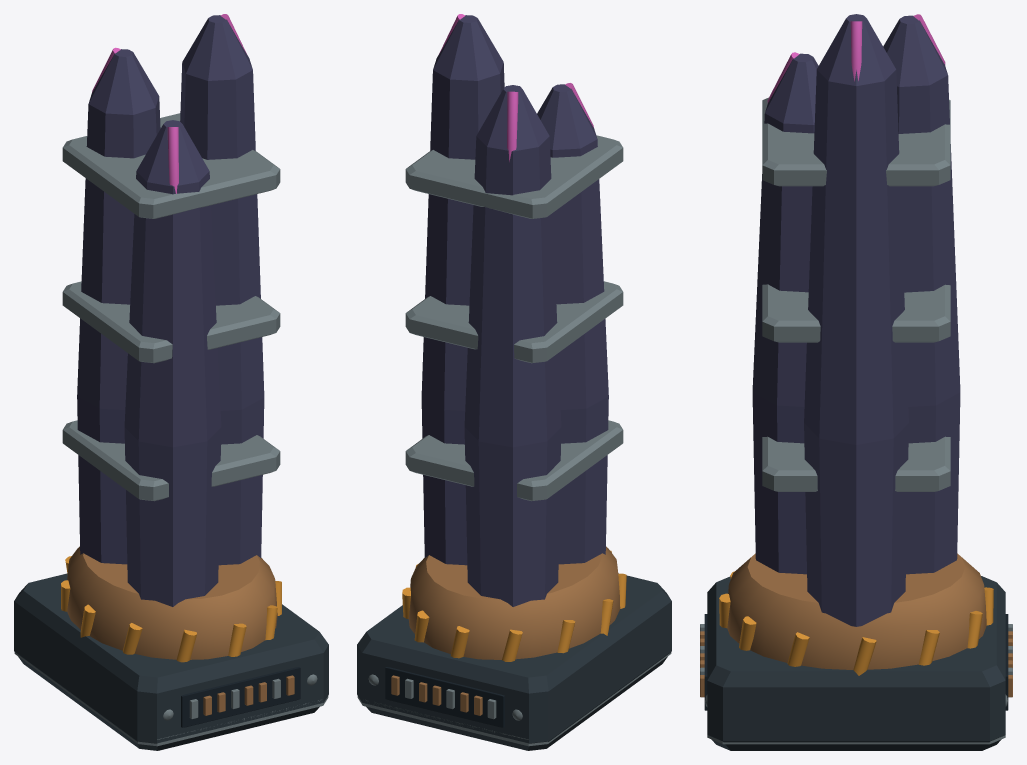
File: tower_vespera.glb
3 views of the same model, side by side, from view 1: azimuth 30°, elevation 25°; view 2: azimuth 150°, elevation 25°; view 3: azimuth 270°, elevation 25° (orthographic). The views are drawn at different scales.
Visible parts, largest first — view 1: tower_vespera; view 2: tower_vespera; view 3: tower_vespera.
Part boxes in pixels (<box>): tower_vespera: <box>14,14,328,750</box>; tower_vespera: <box>357,14,671,750</box>; tower_vespera: <box>700,14,1012,750</box>.
Bounding box in the file's own units: 3.2 × 10.47 × 4.17.
